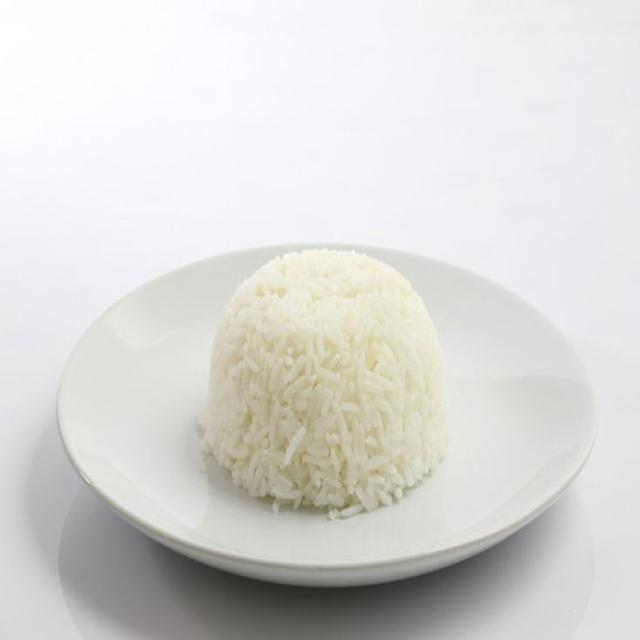rice: (199, 250, 447, 517)
